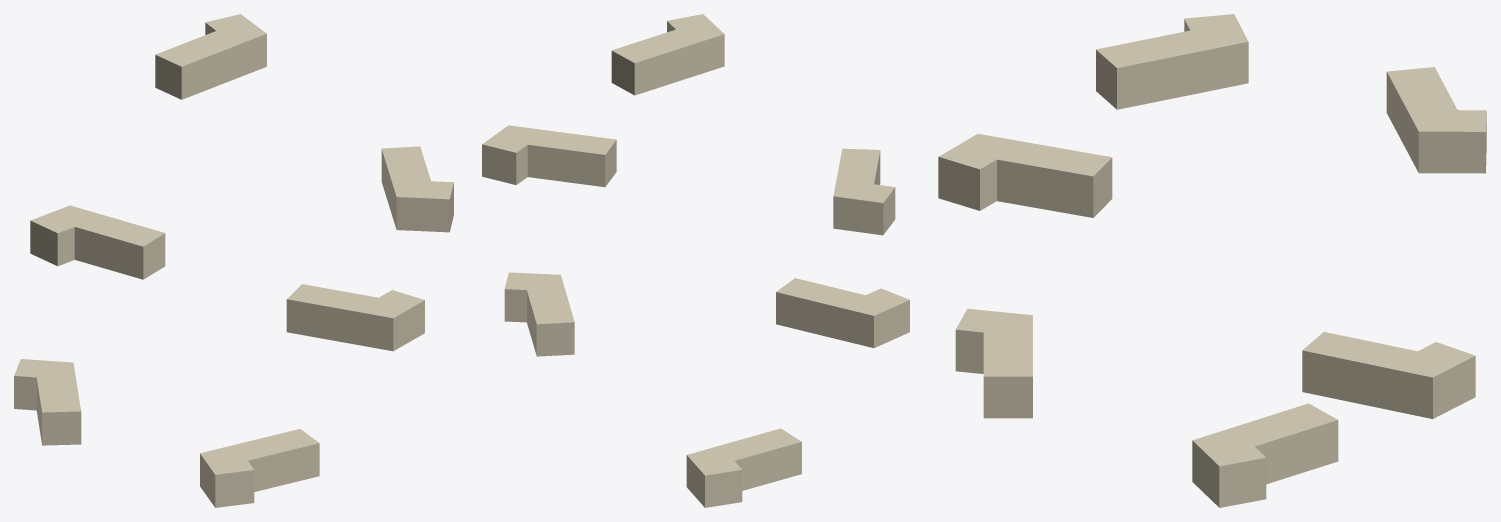
File: cornertable.glb
The picture shows the model from 3 angles, left to right: view 1: azimuth 30°, elevation 25°; view 2: azimuth 150°, elevation 25°; view 3: azimuth 270°, elevation 25°; orthographic projection. The views are drawn at different scales.
Visible parts, largest first — view 1: sidetable.001; view 2: sidetable.001; view 3: sidetable.001.
Part boxes in pixels (x1,y1,x2,y2): sidetable.001: (14, 14, 453, 507); sidetable.001: (482, 14, 909, 507); sidetable.001: (938, 14, 1486, 507).
Size of the model in its own units: 4.27 by 3.36 by 4.15.
